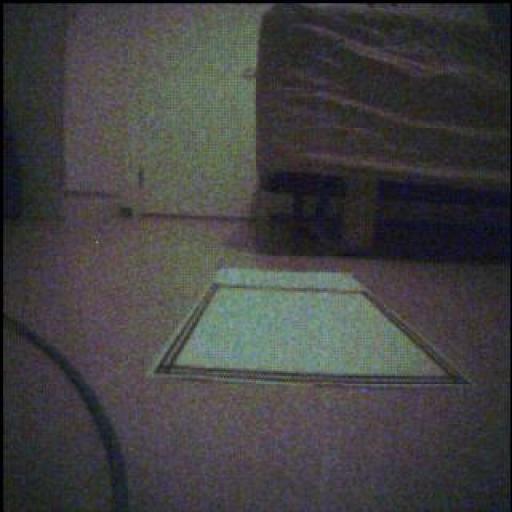pad: (153, 270, 467, 385)
